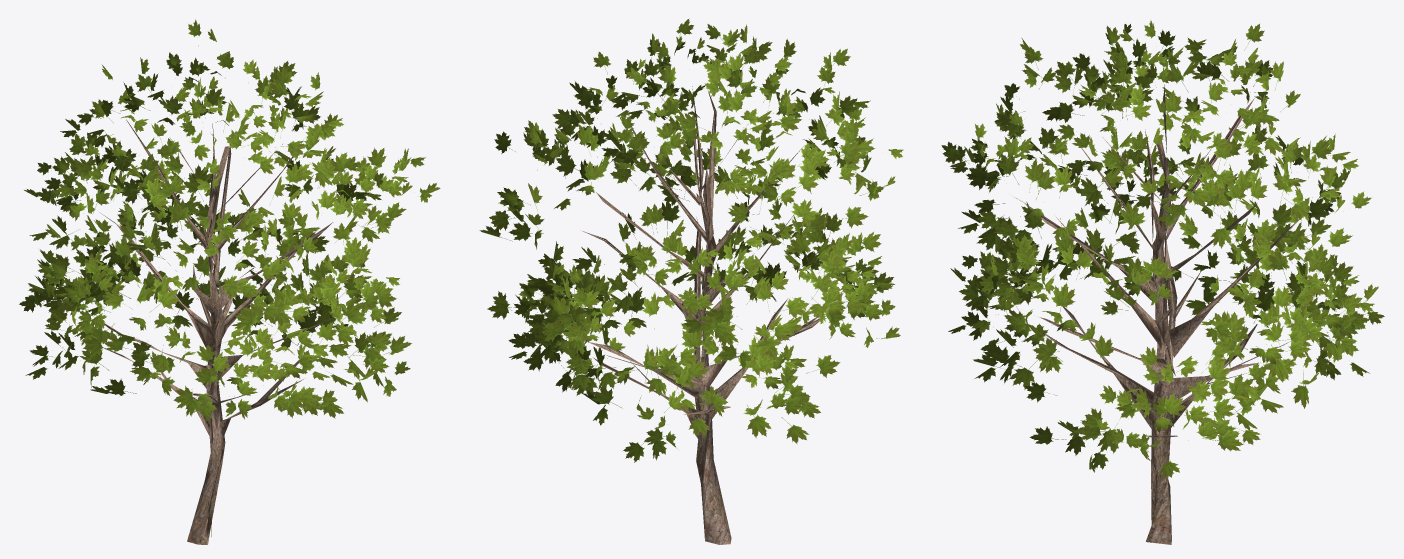
Rendered from tree_maple_lo.glb.
The picture shows the model from 3 angles, left to right: view 1: azimuth 30°, elevation 25°; view 2: azimuth 150°, elevation 25°; view 3: azimuth 270°, elevation 25°; orthographic projection. The views are drawn at different scales.
Visible parts, largest first — view 1: leaf, trunk; view 2: leaf, trunk; view 3: leaf, trunk.
Boxes of the visible parts, <box> form: leaf: <box>19,19,440,422</box>; trunk: <box>99,119,333,544</box>; leaf: <box>479,18,903,462</box>; trunk: <box>582,86,825,544</box>; leaf: <box>941,20,1384,479</box>; trunk: <box>1014,84,1299,544</box>.
Bounding box in the file's own units: 8.62 × 9.9 × 7.84.
Materials: 2 (2 with a texture image).
